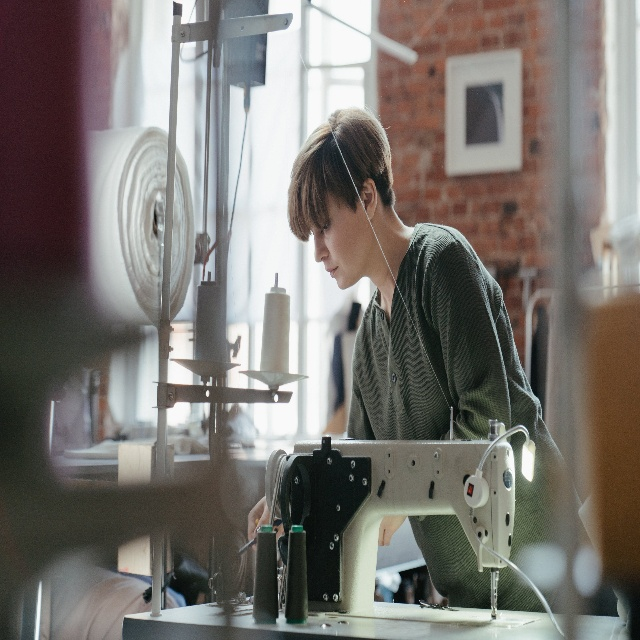Sin_guantes: (246, 493, 271, 551), (378, 515, 406, 547)
